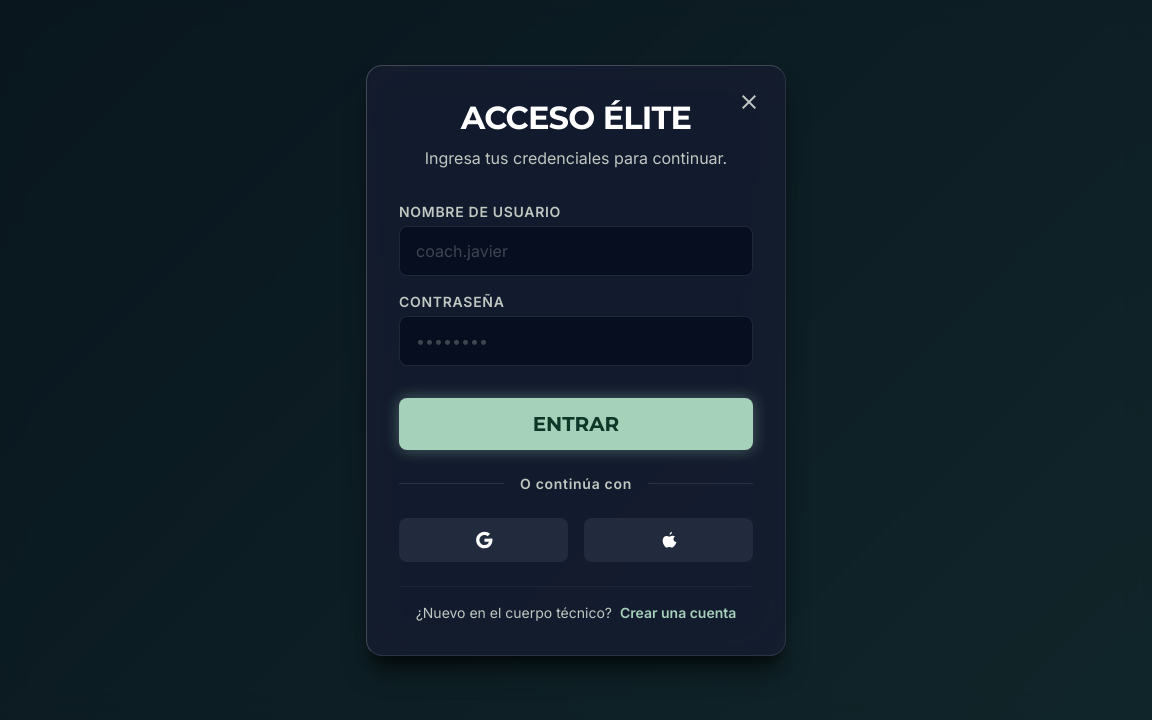
Test: LoginModal › en registro valida que las contraseñas coincidan
Click the button "Crear una cuenta".
click(678, 612)  # box [620, 602, 736, 622]
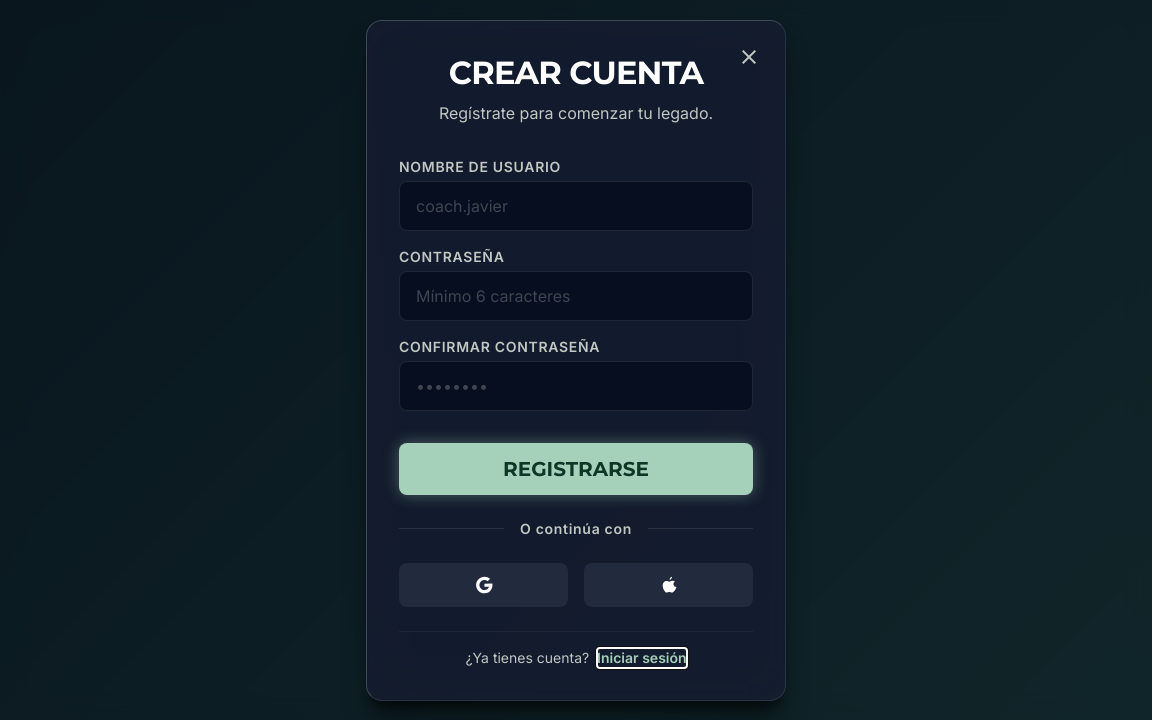
Type "coach" into the field with placeholder "coach.javier".
click(576, 206); type("coach")  # box [399, 180, 753, 230]
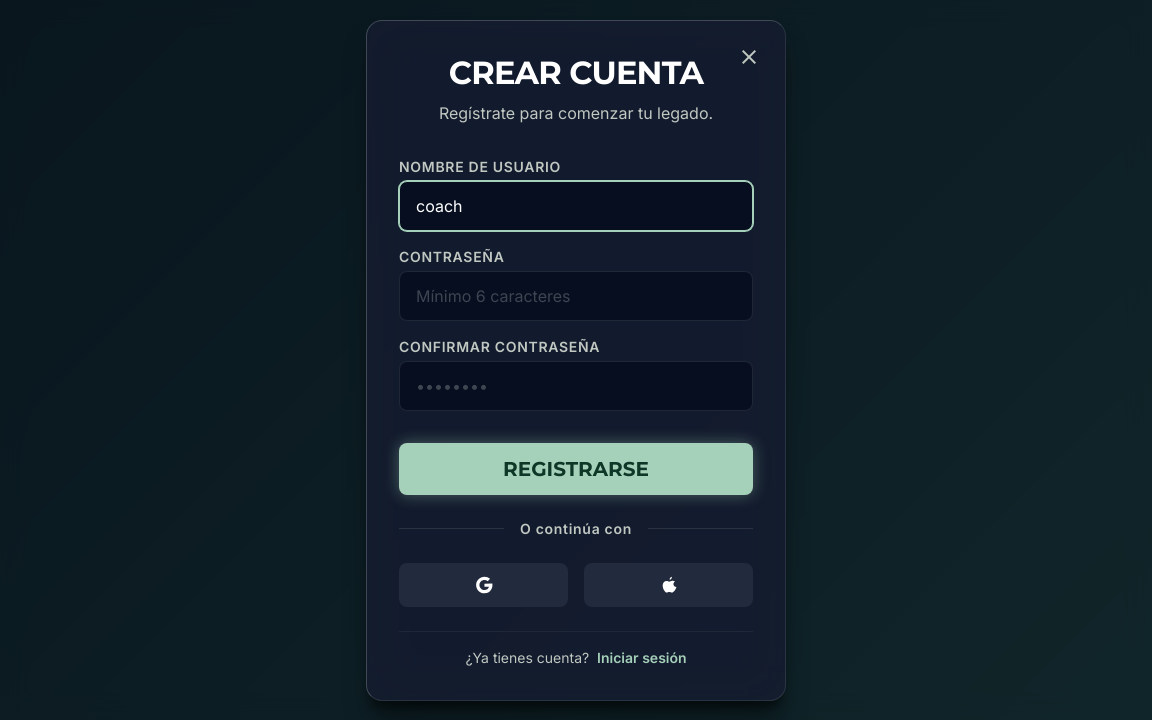
Type "123456" into the password field with placeholder "Mínimo 6 caracteres".
click(576, 296); type("123456")  # box [399, 270, 753, 320]
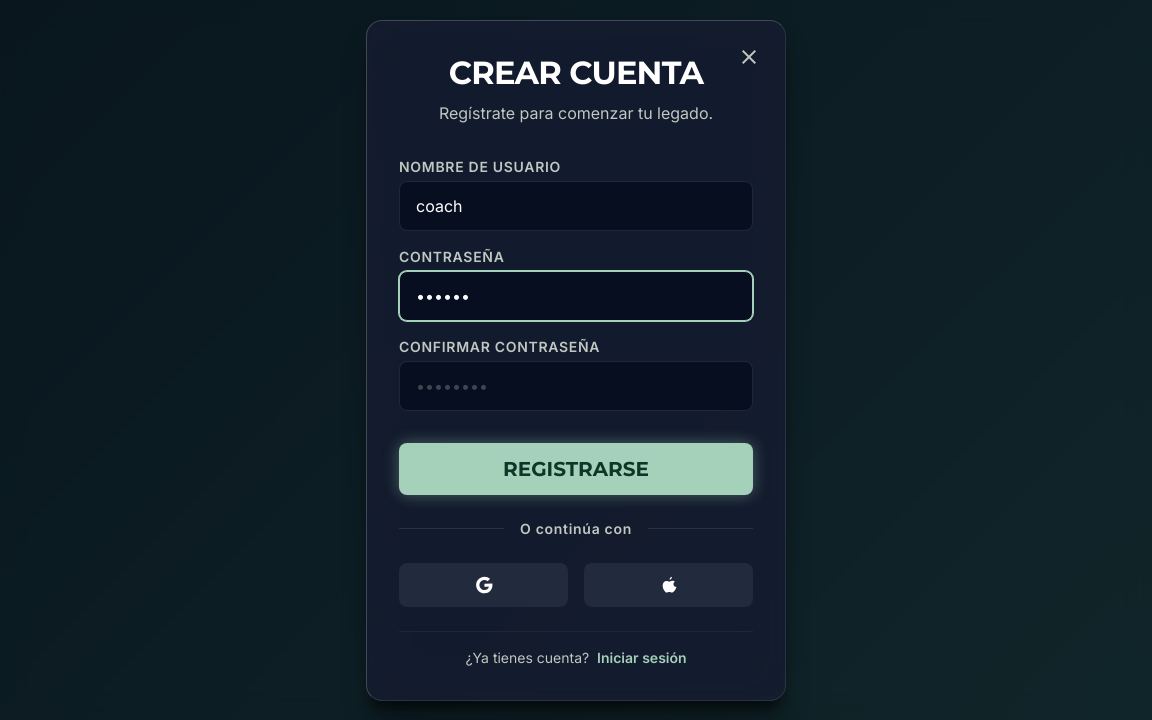
Type "654321" into the password field with placeholder "••••••••".
click(576, 386); type("654321")  # box [399, 360, 753, 410]
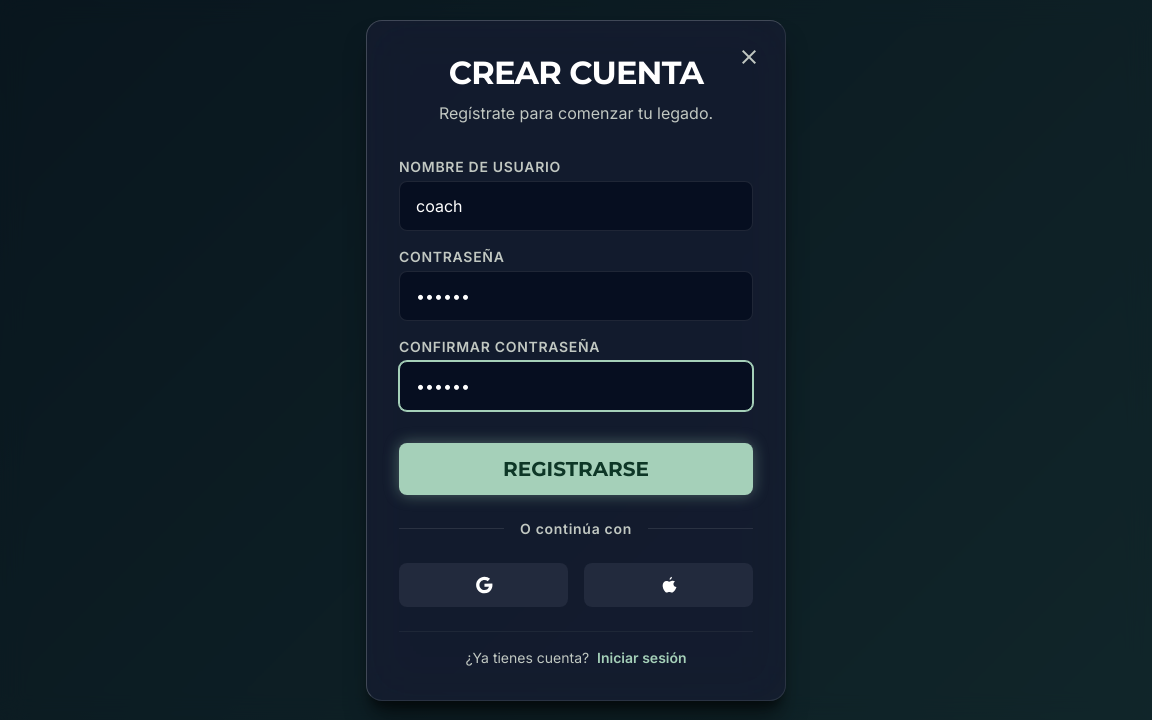
Click the button "Registrarse".
click(576, 468)  # box [399, 442, 753, 494]
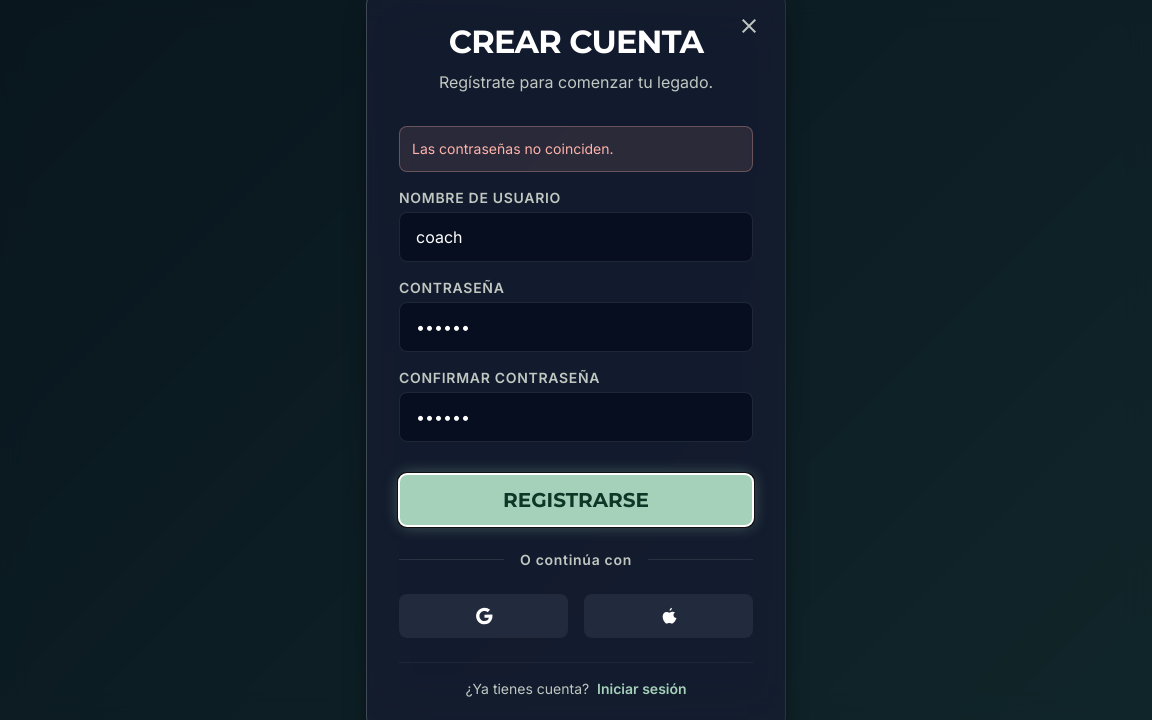
Now the text "Las contraseñas no coinciden." is shown, box [399, 126, 753, 172]
